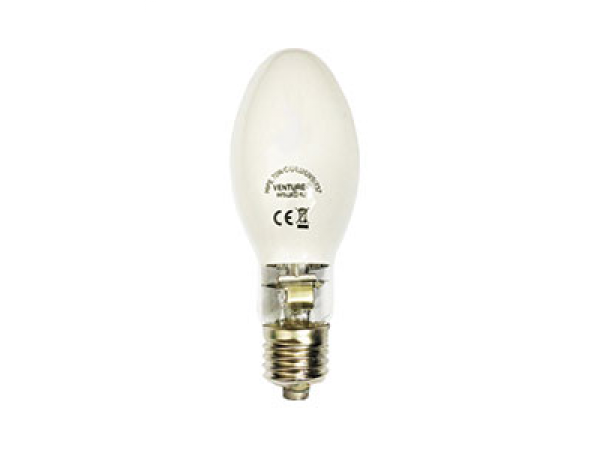Light_bulb: (226, 39, 376, 415)
